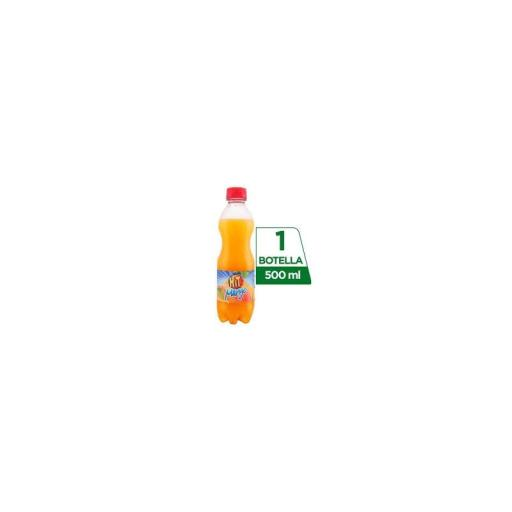JugoHM: (210, 184, 258, 332)
